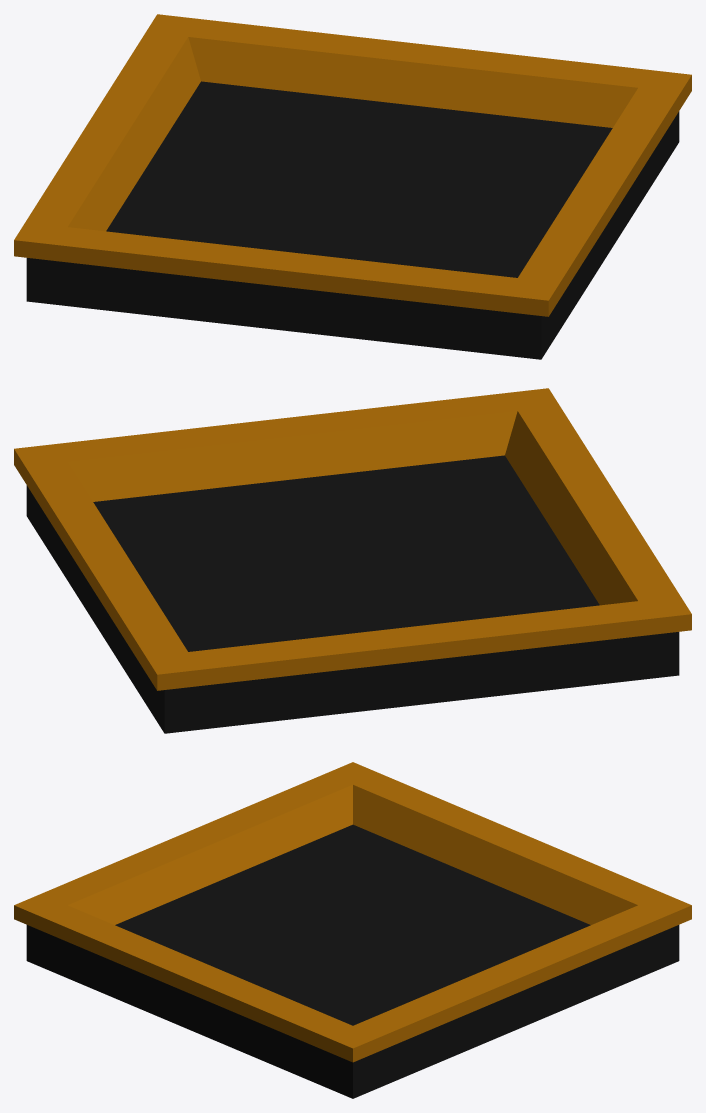
File: Fountain Pool.fbx
3 views of the same model, one above another, from view 1: azimuth 30°, elevation 25°; view 2: azimuth 150°, elevation 25°; view 3: azimuth 270°, elevation 25° (orthographic). The views are drawn at different scales.
Parts seen in each view (by area): view 1: Fountain Pool; view 2: Fountain Pool; view 3: Fountain Pool.
Boxes of the visible parts, <box> form: Fountain Pool: <box>14,14,691,359</box>; Fountain Pool: <box>14,388,691,733</box>; Fountain Pool: <box>14,762,691,1098</box>.
Size of the model in its own units: 719 by 65.35 by 719.
